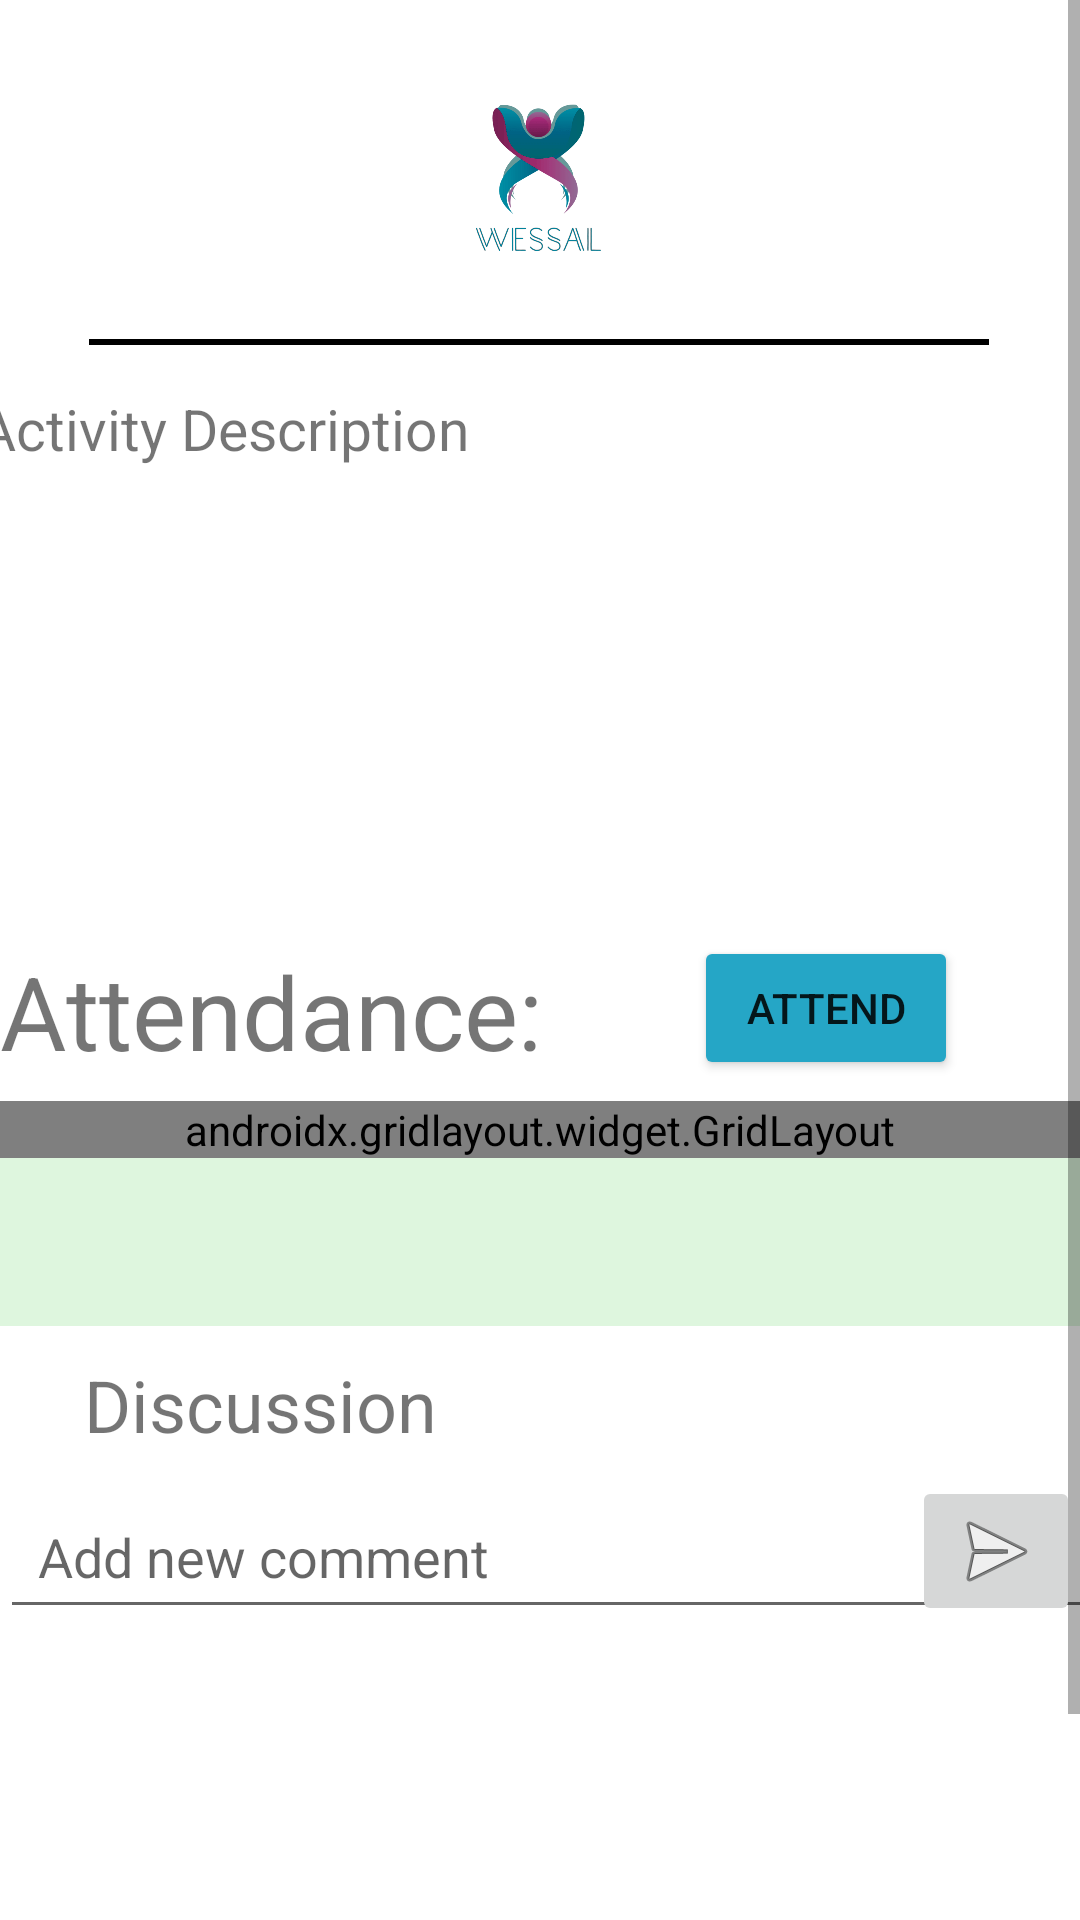

Named icons in this screenshot (1080px x 1920px) and their centers, point (x, y):
send: point (996, 1551)
